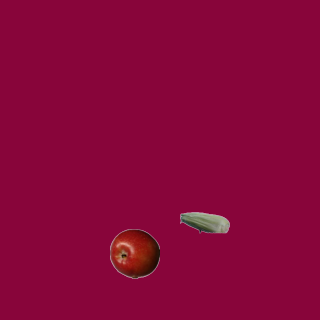Apple Braeburn: (109, 228, 159, 278)
Corn Husk: (179, 197, 229, 247)
